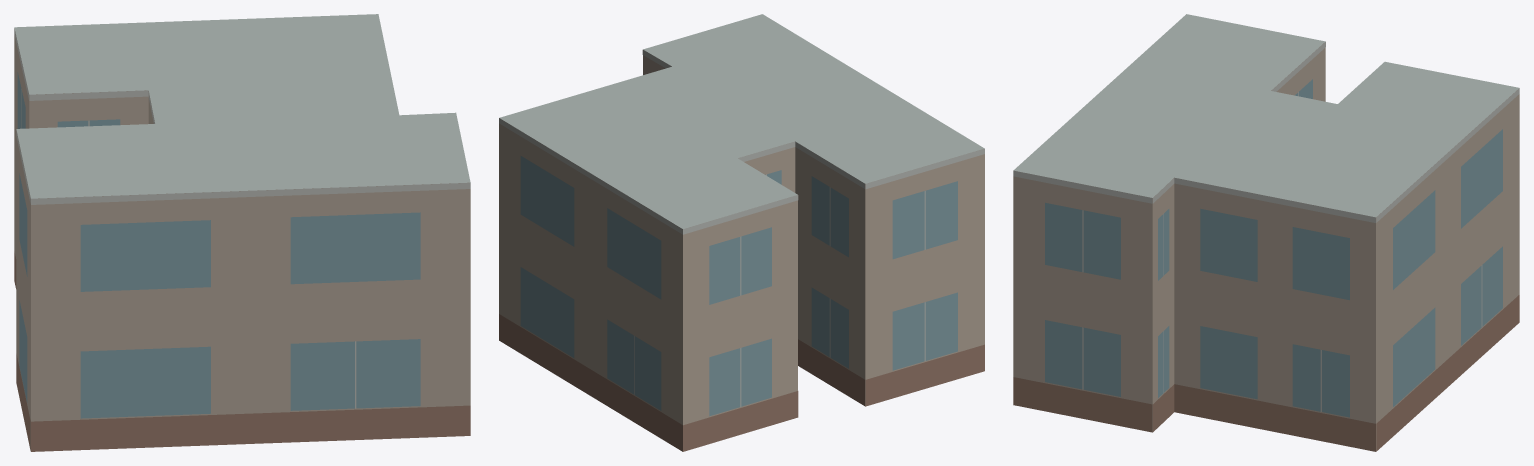
File: survey-upis-32904020.glb
The picture shows the model from 3 angles, left to right: view 1: azimuth 30°, elevation 25°; view 2: azimuth 150°, elevation 25°; view 3: azimuth 270°, elevation 25°; orthographic projection. The views are drawn at different scales.
Parts seen in each view (by area): view 1: survey-upis-32904020.tmp; view 2: survey-upis-32904020.tmp; view 3: survey-upis-32904020.tmp.
Boxes of the visible parts, <box> form: survey-upis-32904020.tmp: <box>14,14,470,451</box>; survey-upis-32904020.tmp: <box>499,14,984,451</box>; survey-upis-32904020.tmp: <box>1013,14,1519,451</box>.
Bounding box in the file's own units: 18.24 × 9.8 × 19.19.
